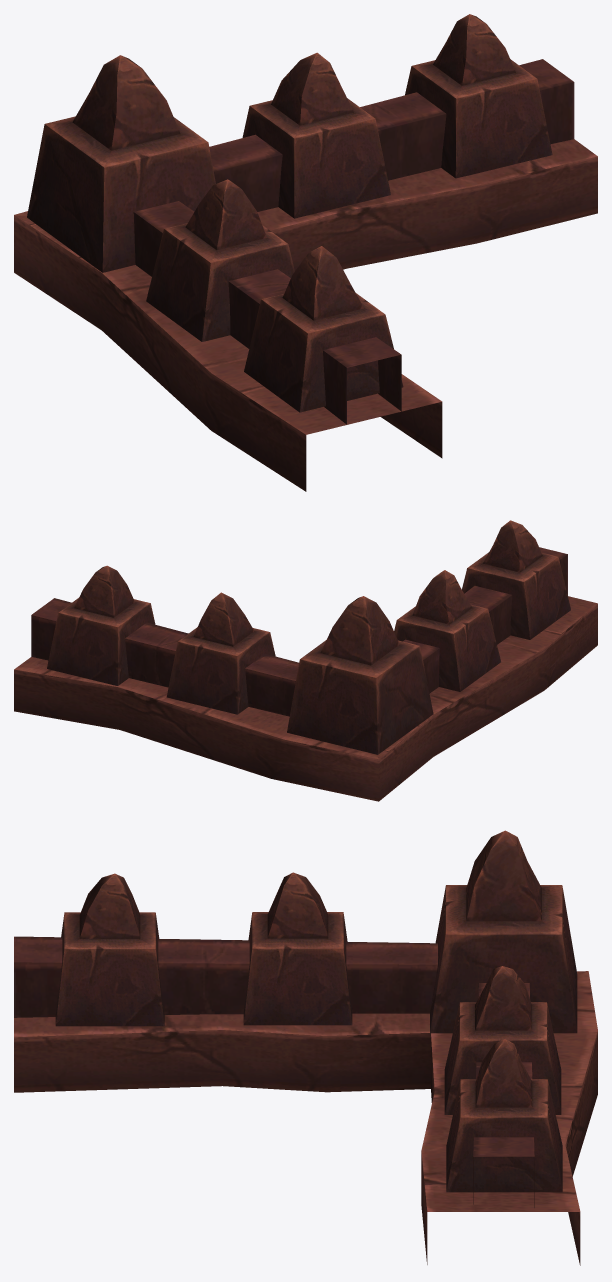
The model's file is lava_railing_concave_01.fbx.
3 views of the same model, one above another, from view 1: azimuth 30°, elevation 25°; view 2: azimuth 150°, elevation 25°; view 3: azimuth 270°, elevation 25° (orthographic). The views are drawn at different scales.
Parts seen in each view (by area): view 1: lava_railing_concave_01-0; view 2: lava_railing_concave_01-0; view 3: lava_railing_concave_01-0.
Part boxes in pixels (x1=…): lava_railing_concave_01-0: x1=14, y1=14, x2=597, y2=491; lava_railing_concave_01-0: x1=14, y1=520, x2=597, y2=801; lava_railing_concave_01-0: x1=14, y1=830, x2=597, y2=1265.
Bounding box in the file's own units: 4.73 × 2.07 × 4.77.
